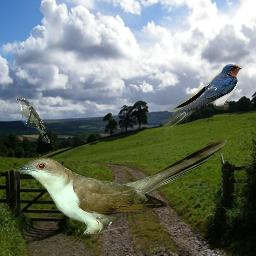Cuckoo: (14, 137, 227, 234), (16, 98, 50, 143)
Swallow: (162, 64, 243, 132)
